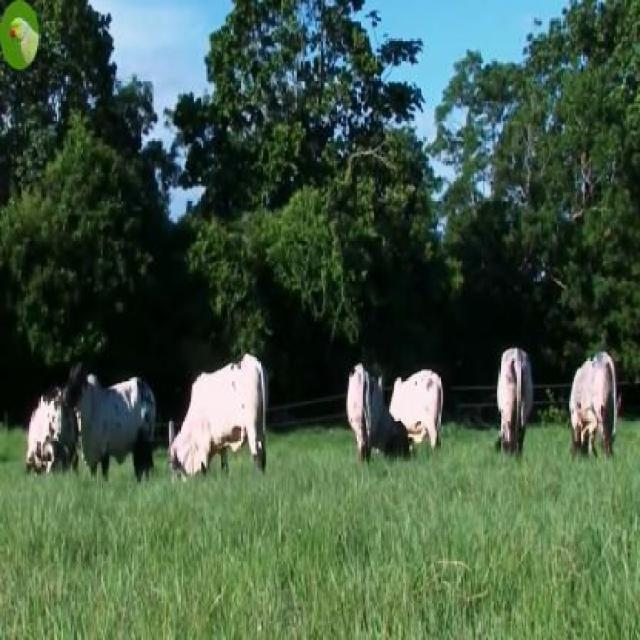Cow: (169, 355, 268, 488), (64, 372, 154, 500), (388, 366, 443, 454)
